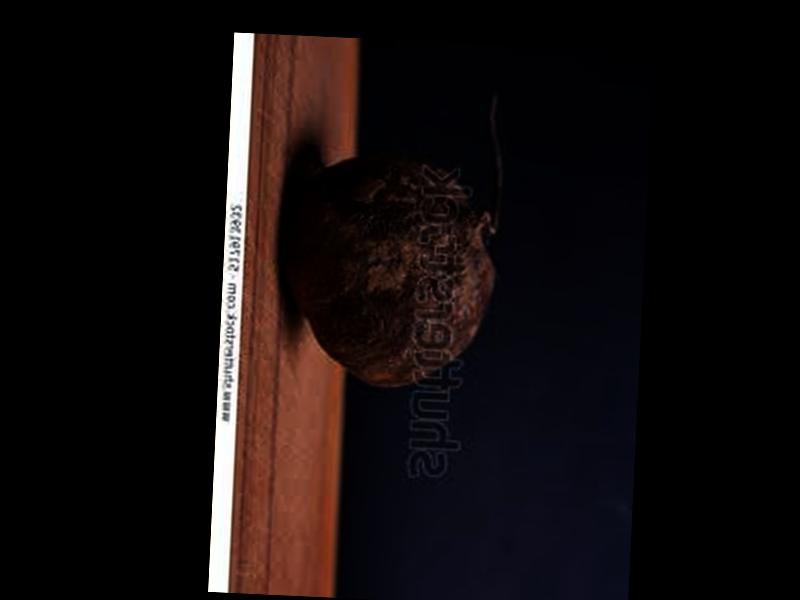Beet: (280, 78, 508, 391)
